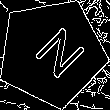N_SW: (20, 21, 84, 84)
